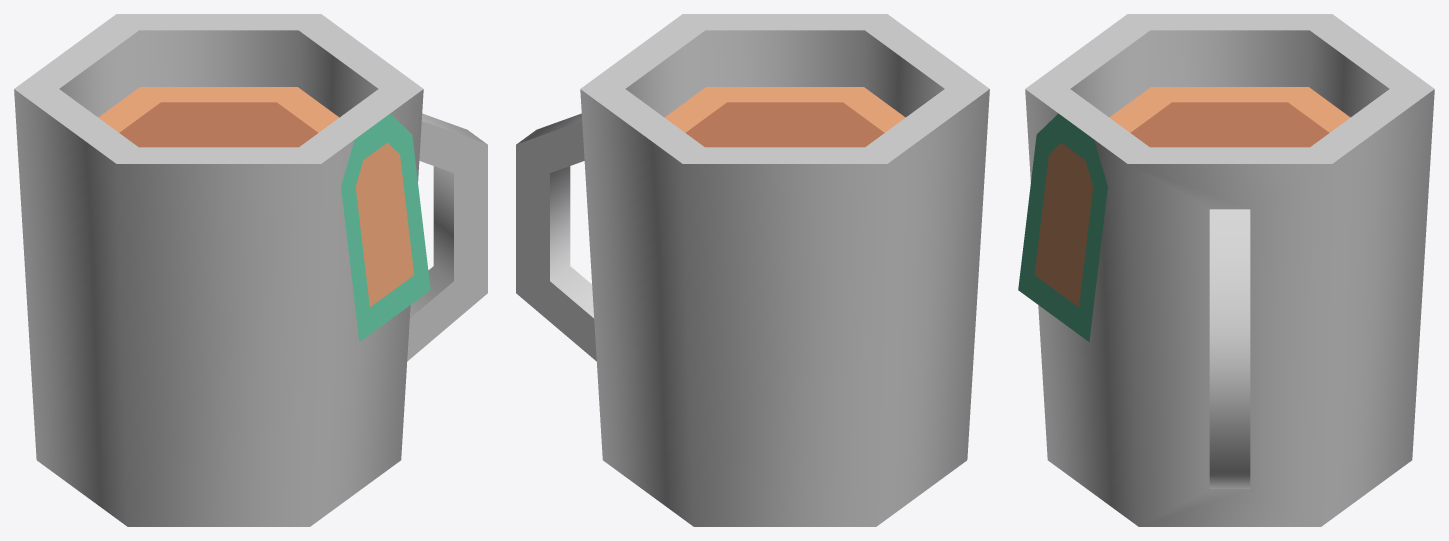
The model's file is cupThea.glb.
3 renders of one model, left to right at view 1: azimuth 30°, elevation 25°; view 2: azimuth 150°, elevation 25°; view 3: azimuth 270°, elevation 25°, orthographic.
Visible parts, largest first — view 1: cupThea; view 2: cupThea; view 3: cupThea.
Part boxes in pixels (x1,y1,x2,y2): cupThea: [14, 14, 487, 526]; cupThea: [516, 14, 989, 526]; cupThea: [1018, 14, 1434, 526].
Size of the model in its own units: 0.2325 by 0.2 by 0.2034.
